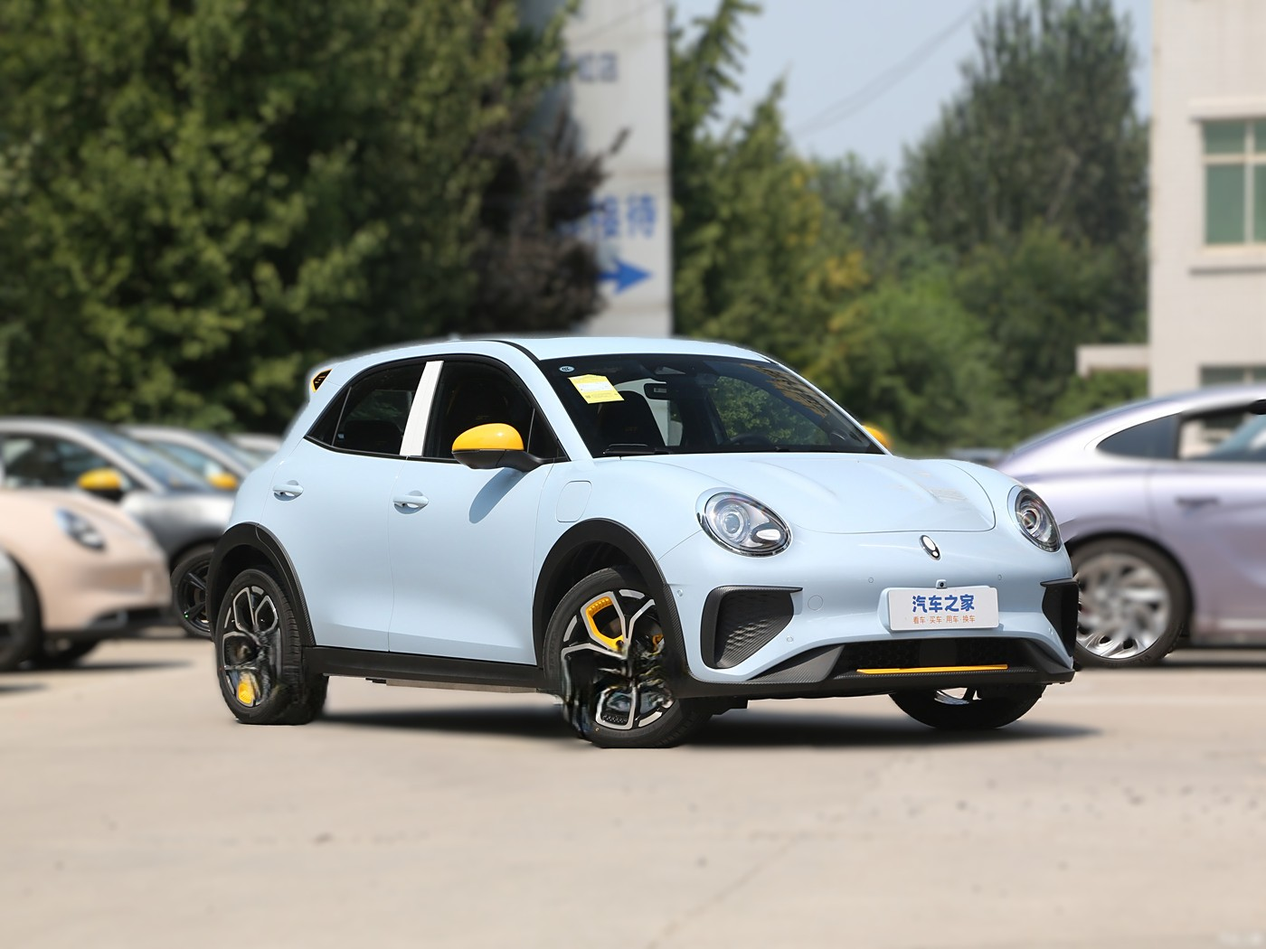ORA: (920, 535, 940, 560)
